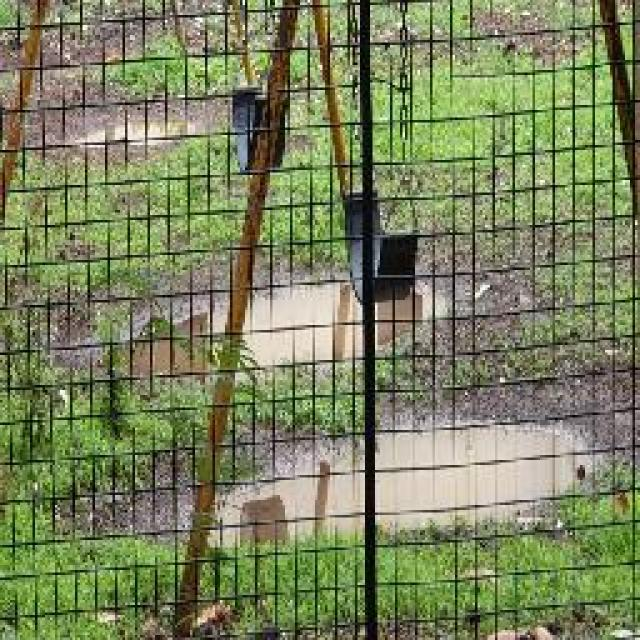stagnation: (189, 428, 589, 523), (111, 264, 465, 355)
